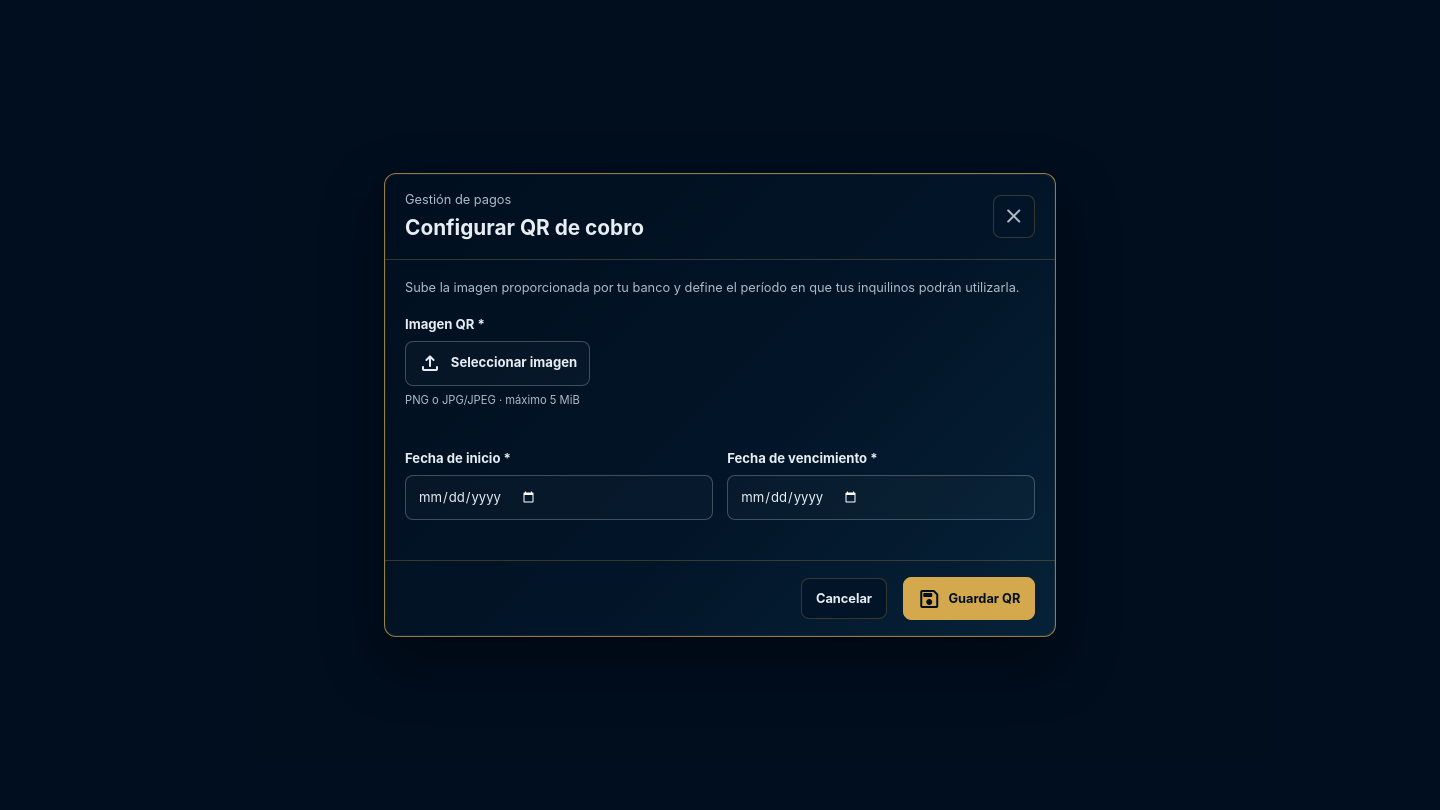
Test: QrCobroConfigModalComponent › requires an image and both dates before making a request
Click the submit button: click(969, 599) [903,577,1035,620]
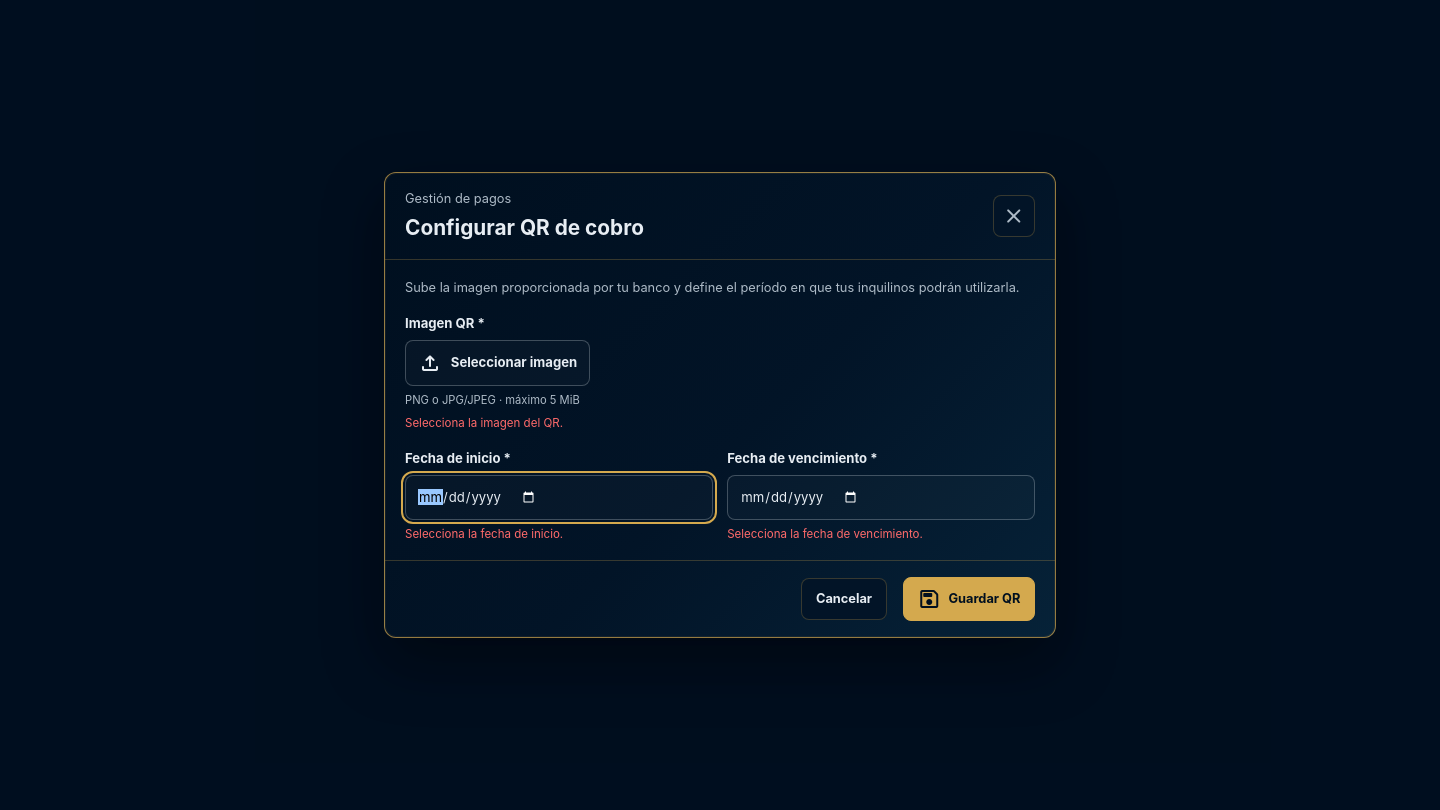
expect the text "Selecciona la imagen del QR." is shown: met, box [405,416,563,430]
expect the text "Selecciona la fecha de inicio." is shown: met, box [405,527,563,541]
expect the text "Selecciona la fecha de vencimiento." is shown: met, box [727,527,923,541]
